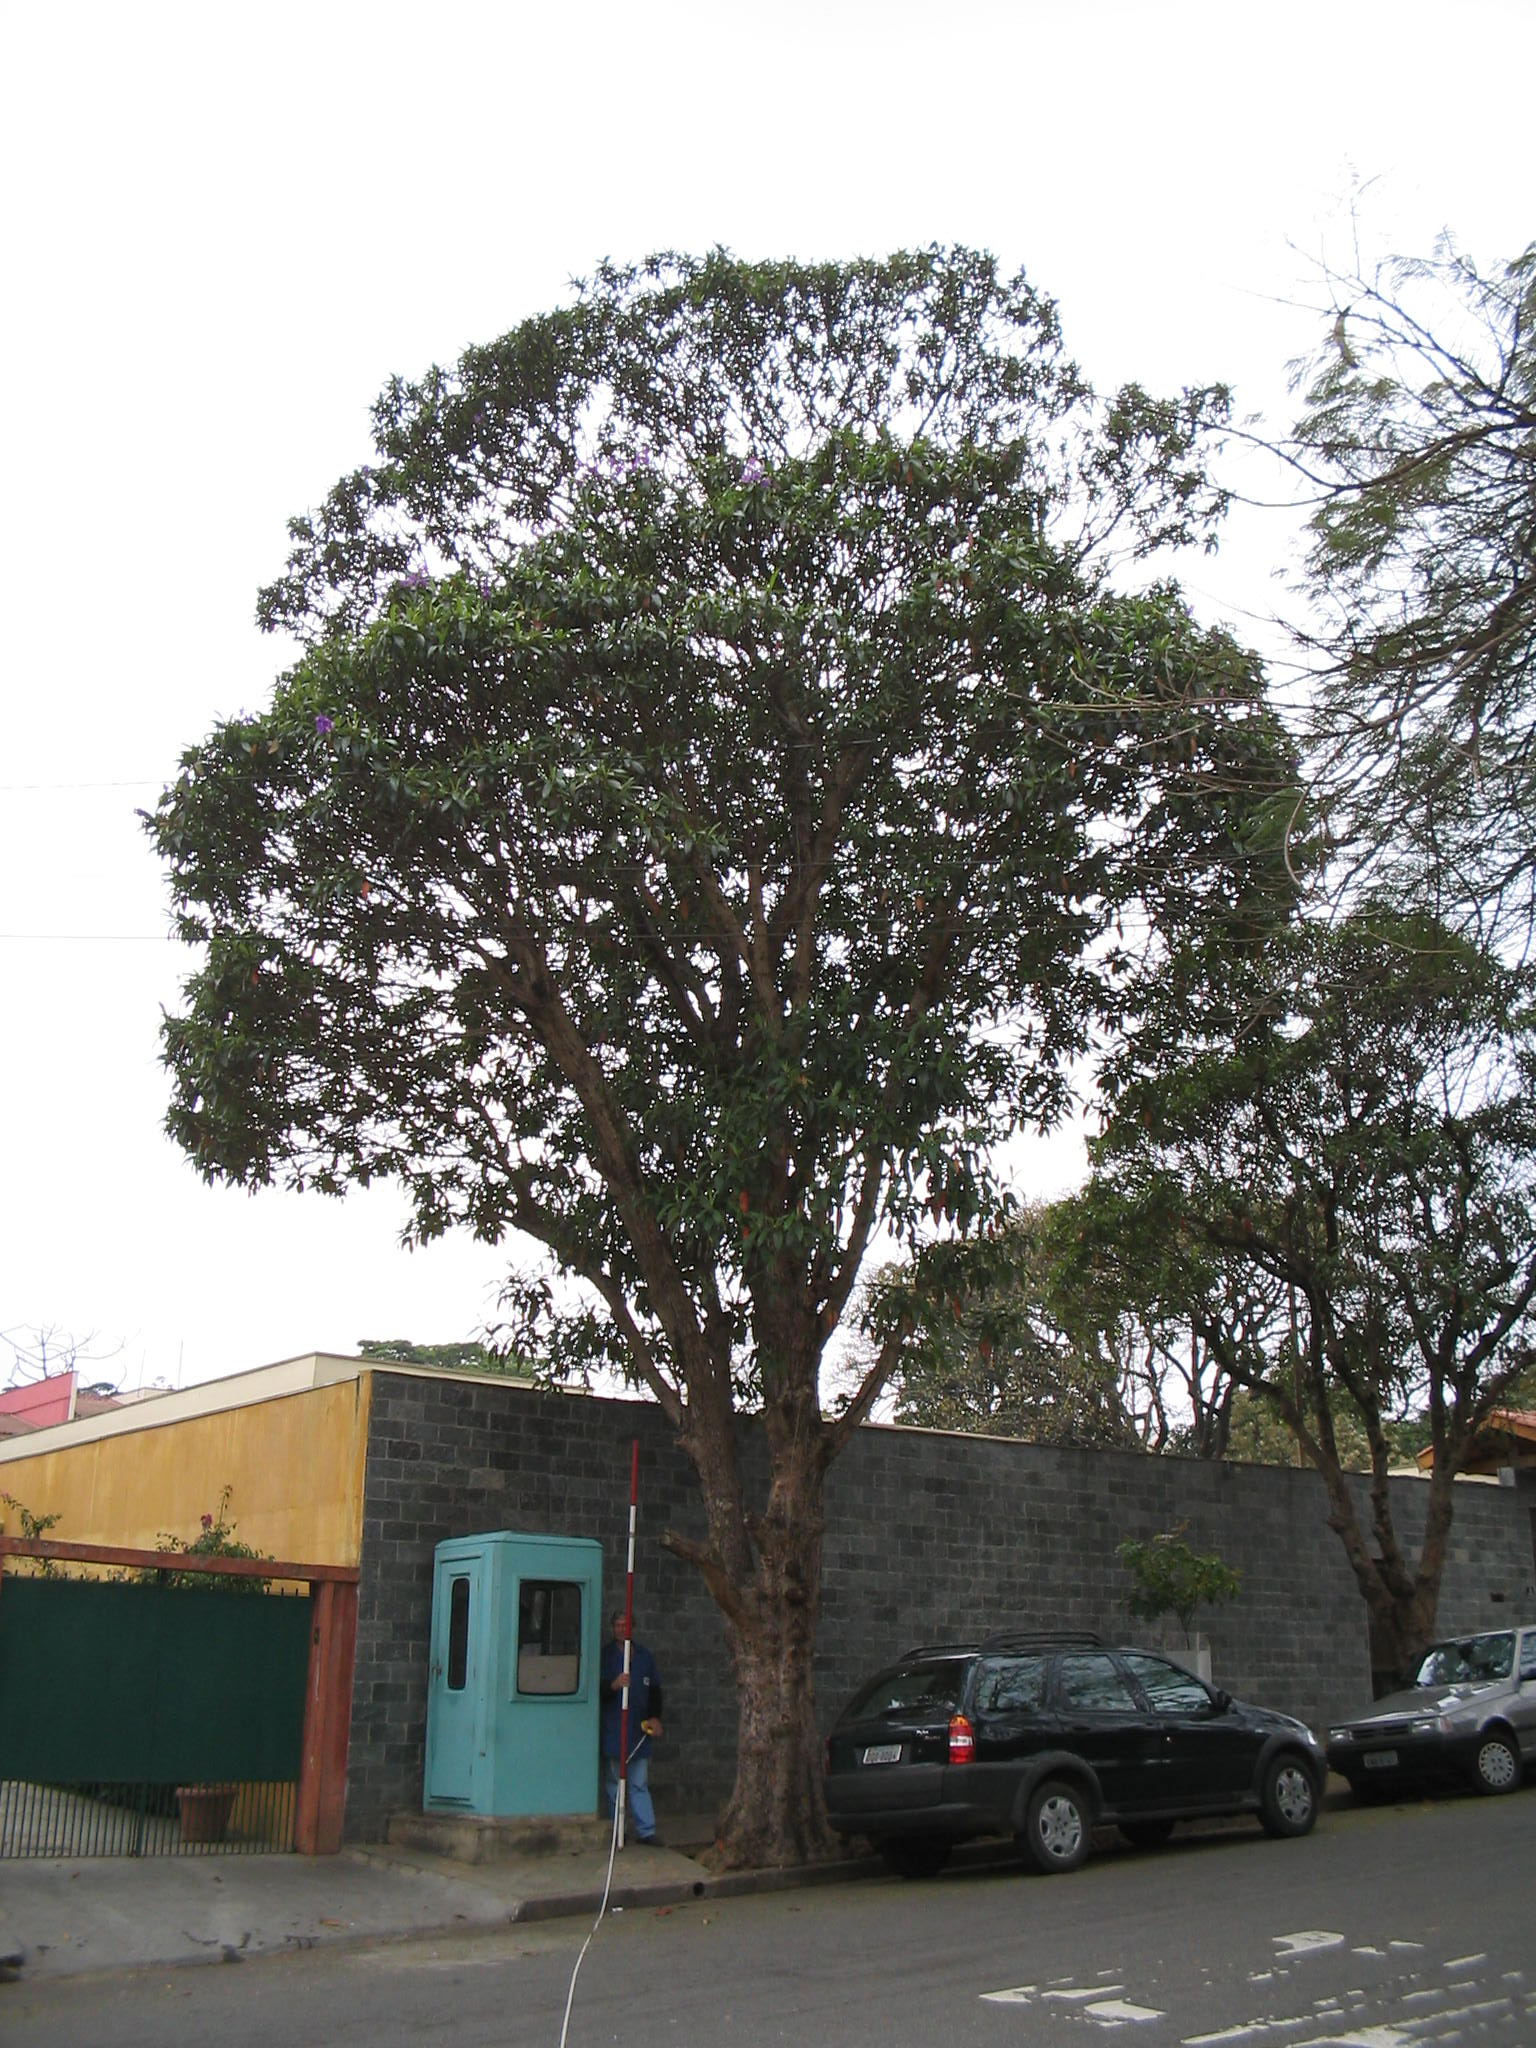crown: (160, 266, 1312, 1374)
stem: (679, 1608, 886, 1871), (1328, 1571, 1462, 1695)
stick: (573, 1445, 662, 1851)
tree: (148, 255, 1315, 1875), (1104, 921, 1530, 1696)
